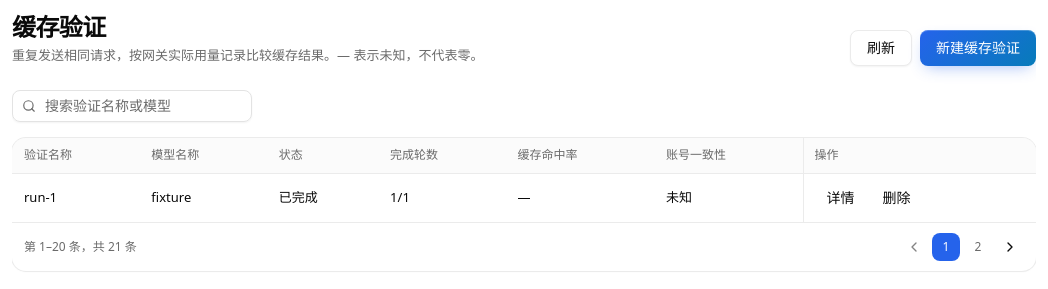
Test case: refresh moves an emptied last page back to the remaining page
Expected: the text "run-1" is shown, left=12, top=174, right=139, bottom=222
Step 1. Click the button named "下一页" → (1010, 247), box left=996, top=233, right=1024, bottom=261
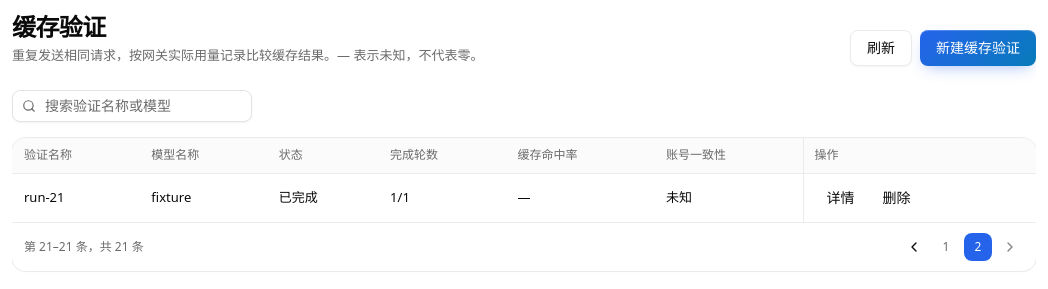
Now the text "run-21" is shown, box left=12, top=174, right=139, bottom=222
Step 2. Click the button "刷新" → (881, 48), box left=850, top=30, right=912, bottom=66
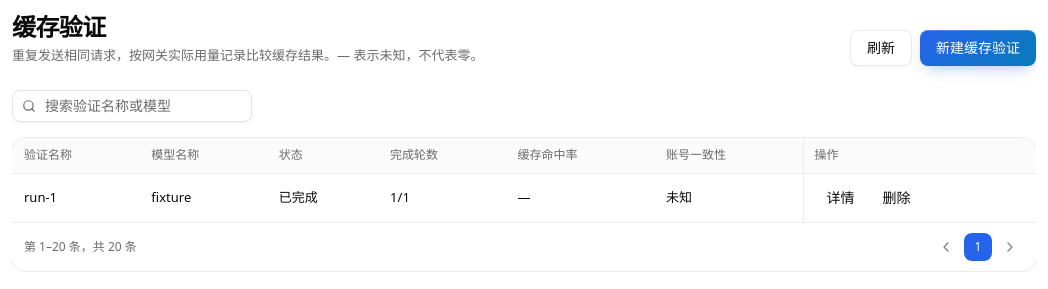
Now the text "run-1" is shown, box left=12, top=174, right=139, bottom=222
